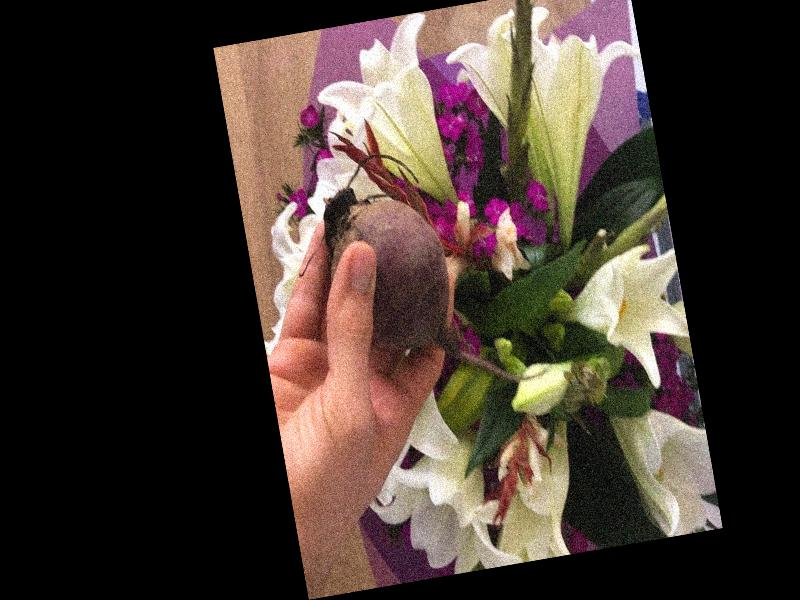Beet: (311, 131, 550, 411)
